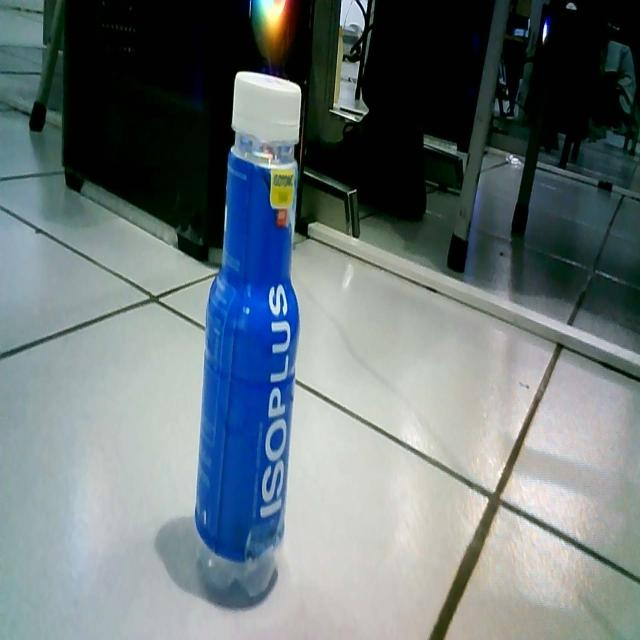botol: (193, 61, 303, 596)
